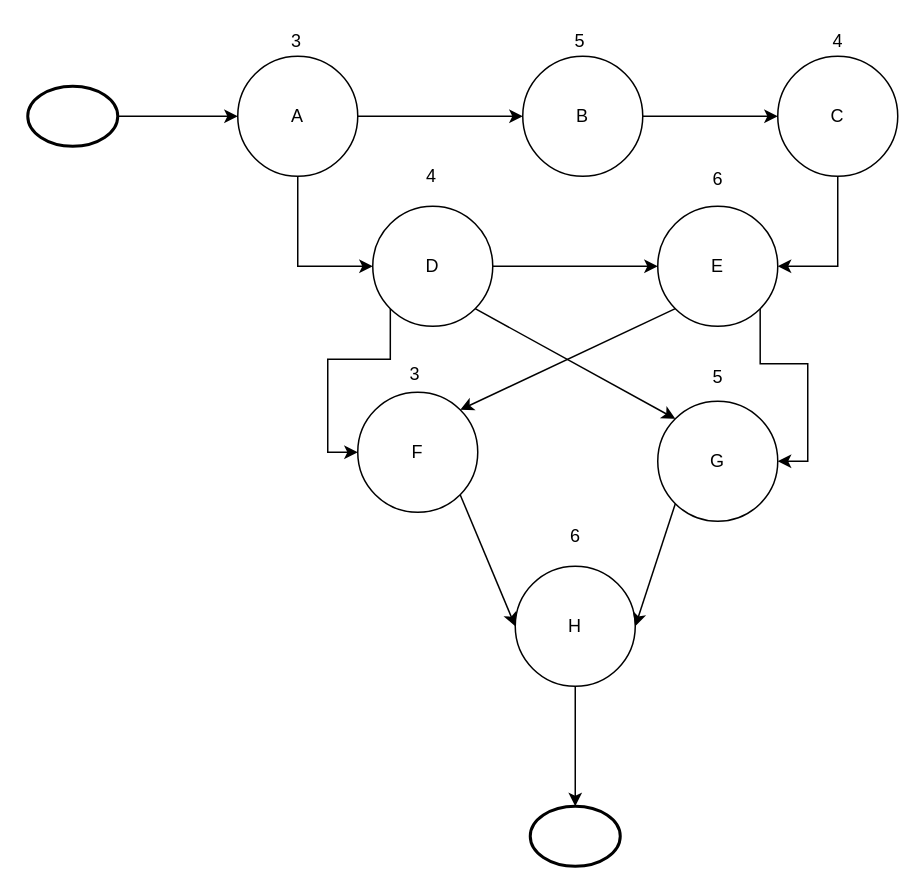
Some shapes in this 924 by 893 pixel diagram are drawn without their labels. Here are the shapes that lost their labels. From the top down, the centre of each, then its label:
[72,115]: Start
[574,835]: Stop
